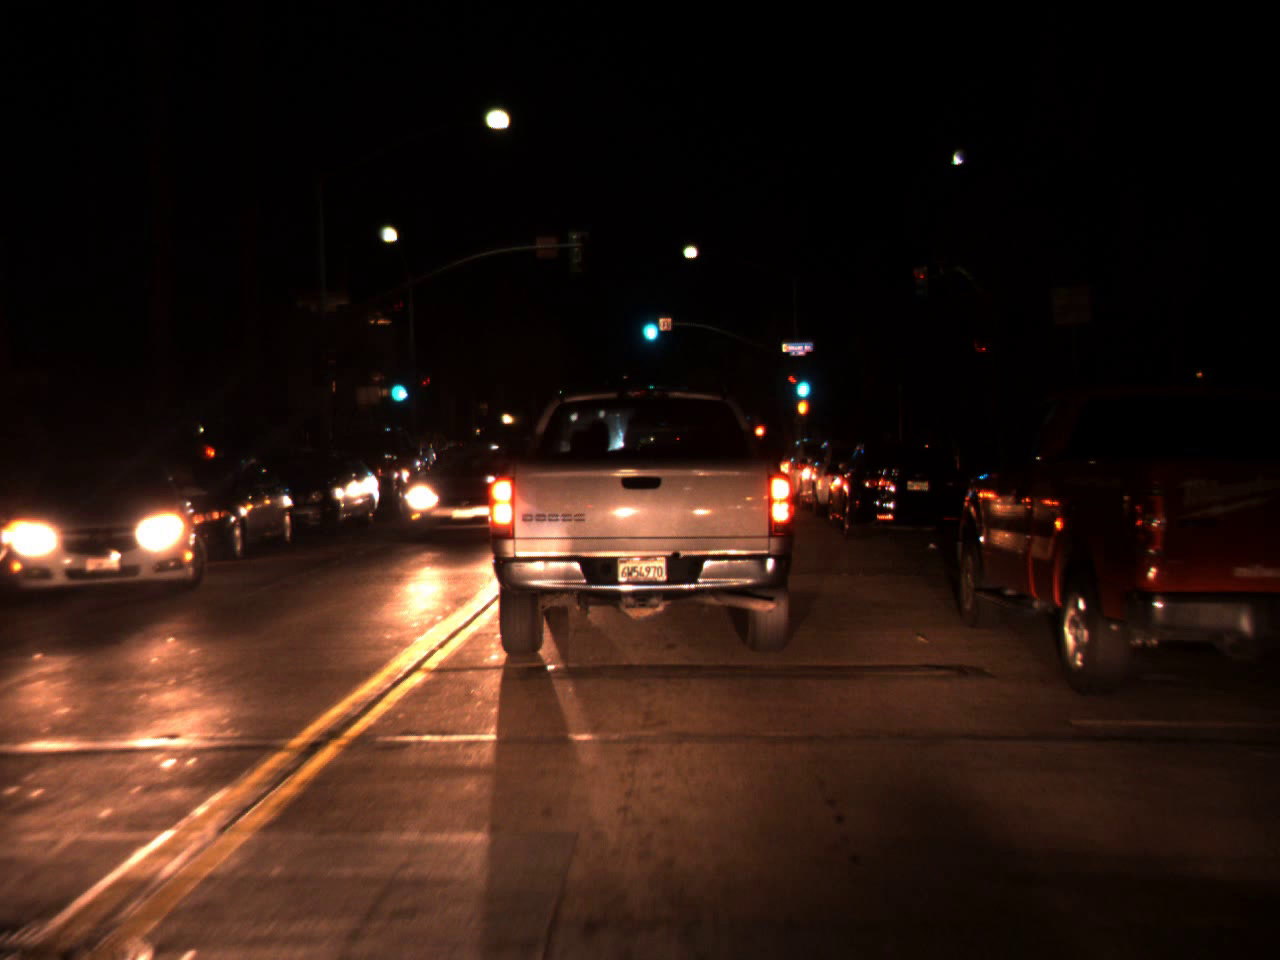go: (637, 304, 660, 346), (386, 365, 407, 407), (792, 363, 811, 402)
